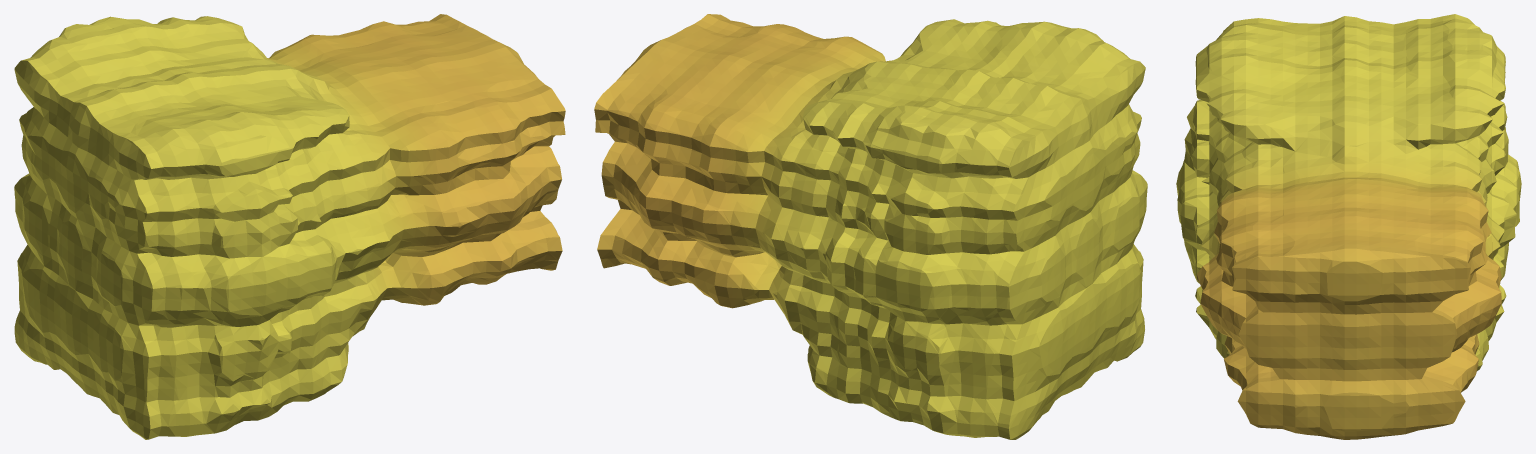
3 renders of one model, left to right at view 1: azimuth 30°, elevation 25°; view 2: azimuth 150°, elevation 25°; view 3: azimuth 270°, elevation 25°, orthographic. The views are drawn at different scales.
Visible parts, largest first — view 1: geometry_0; view 2: geometry_0; view 3: geometry_0.
Part boxes in pixels (<box>): geometry_0: <box>14,14,565,439</box>; geometry_0: <box>594,14,1147,439</box>; geometry_0: <box>1176,14,1521,439</box>.
Bounding box in the file's own units: 1.68 × 1.11 × 1.2.
